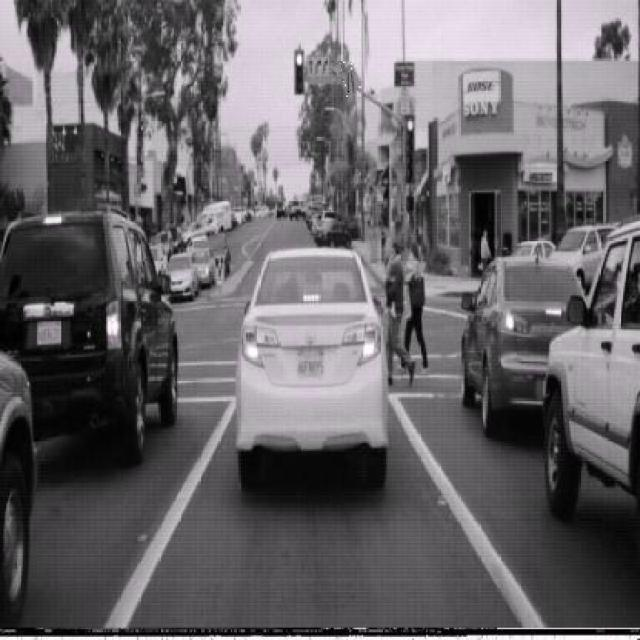laneEnds: (340, 60, 362, 103)
